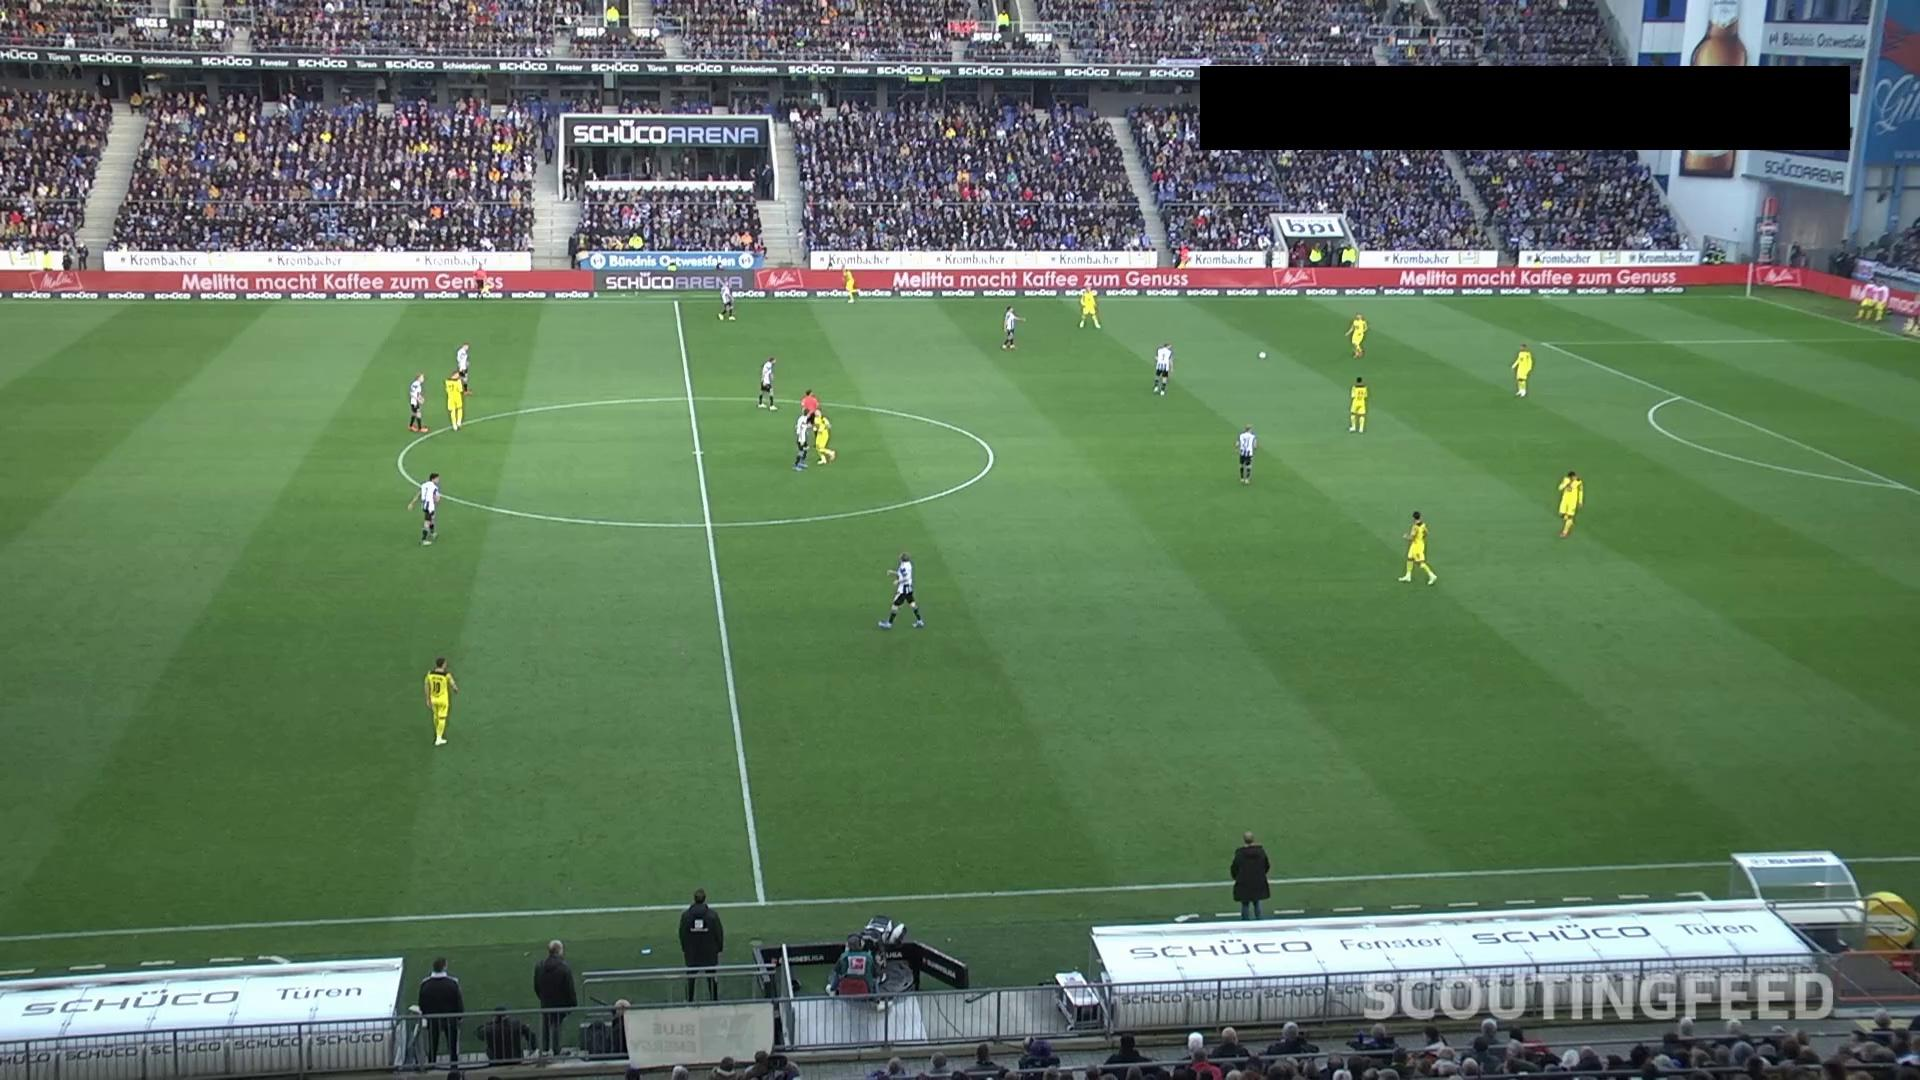Location-of-ball: (1250, 340, 1280, 372)
